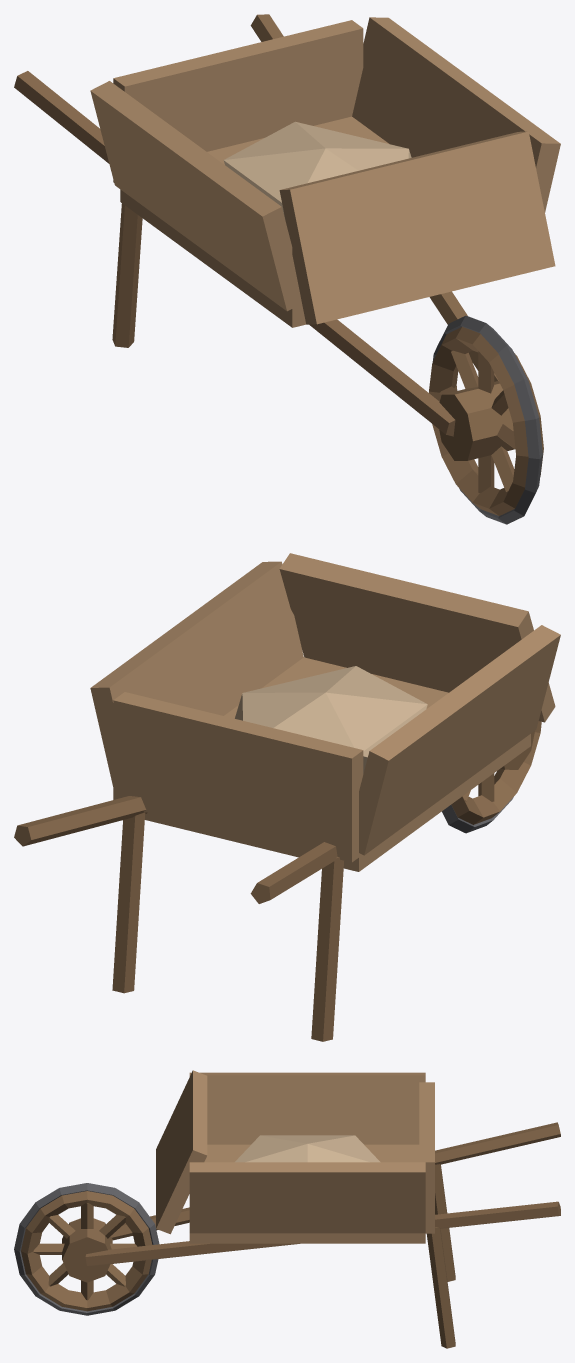
Rendered from SM_Wheelbarrow.glb.
The picture shows the model from 3 angles, top to bottom: view 1: azimuth 30°, elevation 25°; view 2: azimuth 150°, elevation 25°; view 3: azimuth 270°, elevation 25°; orthographic projection. The views are drawn at different scales.
Parts seen in each view (by area): view 1: SM_Wheelbarrow; view 2: SM_Wheelbarrow; view 3: SM_Wheelbarrow.
Boxes of the visible parts, x1=… form: SM_Wheelbarrow: x1=14, y1=14, x2=560, y2=524; SM_Wheelbarrow: x1=14, y1=553, x2=560, y2=1041; SM_Wheelbarrow: x1=14, y1=1070, x2=560, y2=1348.
Size of the model in its own units: 0.7503 by 0.7209 by 1.74.
